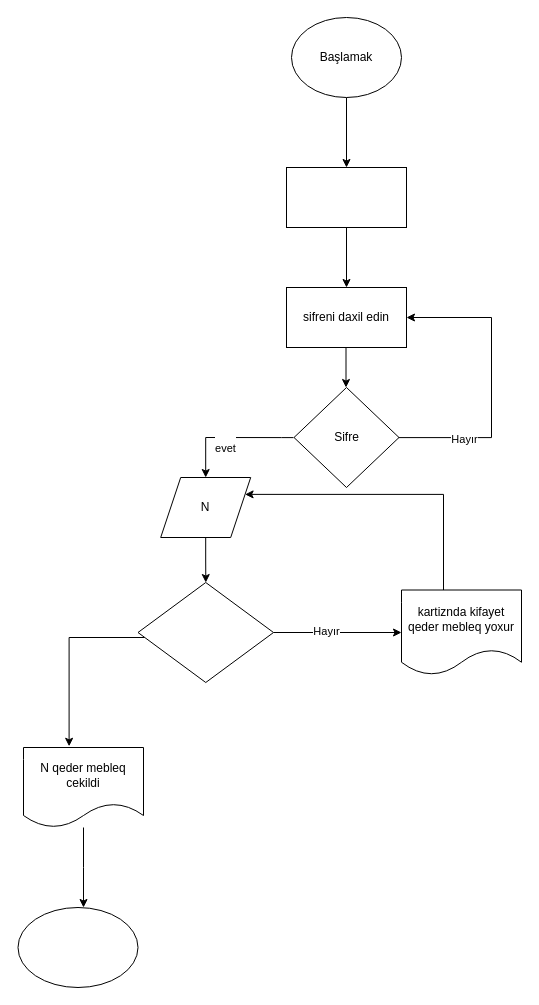
Some shapes in this 539 by 1005 pixel diagram are drawn without their labels. Here are the shapes that lost their labels. From the top down, the box of each, then its label:
(286, 166, 406, 228): Karti daxil etmek
(137, 582, 274, 682): N qeder mebleq varmi
(17, 906, 138, 988): son
